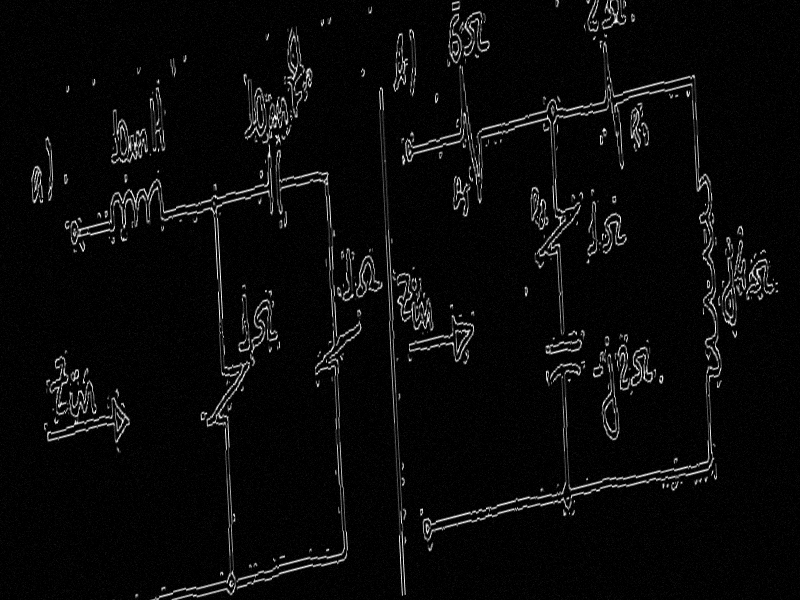-: (591, 357, 605, 384), (450, 0, 462, 14)
0: (252, 80, 268, 139), (115, 112, 130, 165)
1: (240, 71, 258, 144), (234, 284, 251, 356), (583, 188, 599, 264), (339, 242, 355, 307), (107, 102, 121, 168)
2: (616, 340, 632, 395), (585, 0, 602, 36), (536, 194, 550, 235)
3: (641, 120, 651, 150)
4: (731, 232, 749, 296)
5: (461, 181, 472, 219)
6: (446, 9, 463, 67)
F: (288, 58, 307, 123)
H: (147, 82, 167, 158)
m: (125, 123, 149, 165), (266, 94, 289, 132)
